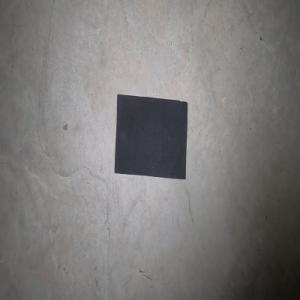PaintChip: (114, 94, 187, 179)
